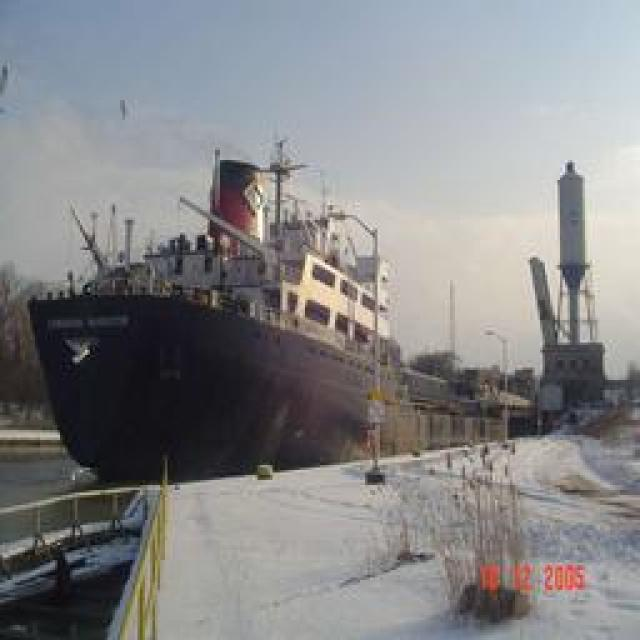CIV_Ship: (30, 140, 415, 485)
